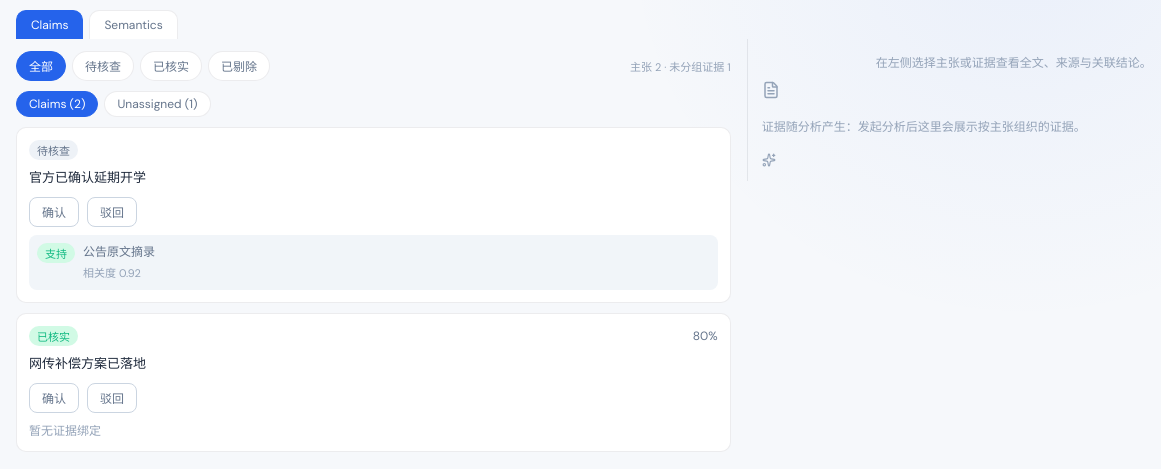
it: InvestigationEvidenceView › filters claims by status
This screenshot has width=1161, height=469.
Click the button "已核实" at (171, 66), box [140,51,202,81]
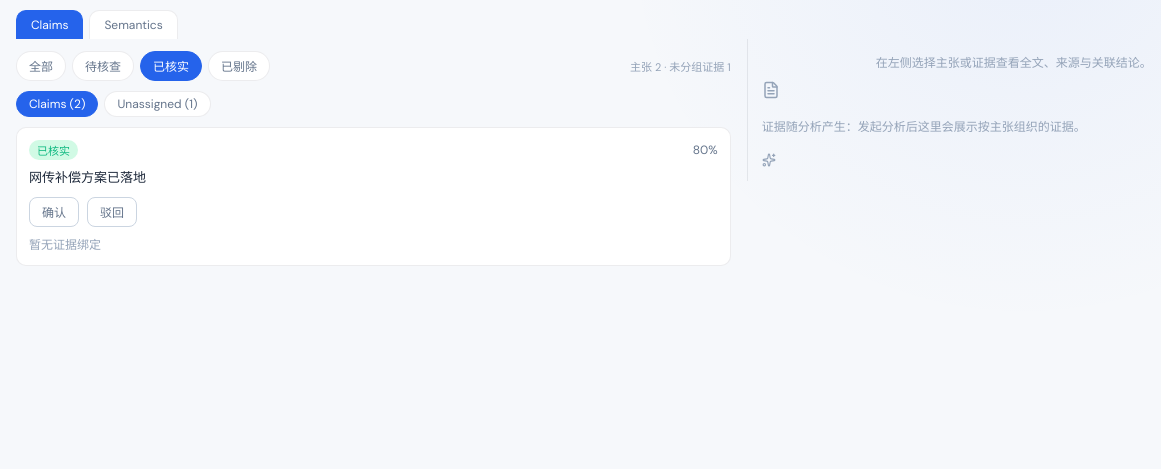
Expected: the text "网传补偿方案已落地" is shown, [29,169,146,186]
Expected: the text "官方已确认延期开学" is gone
